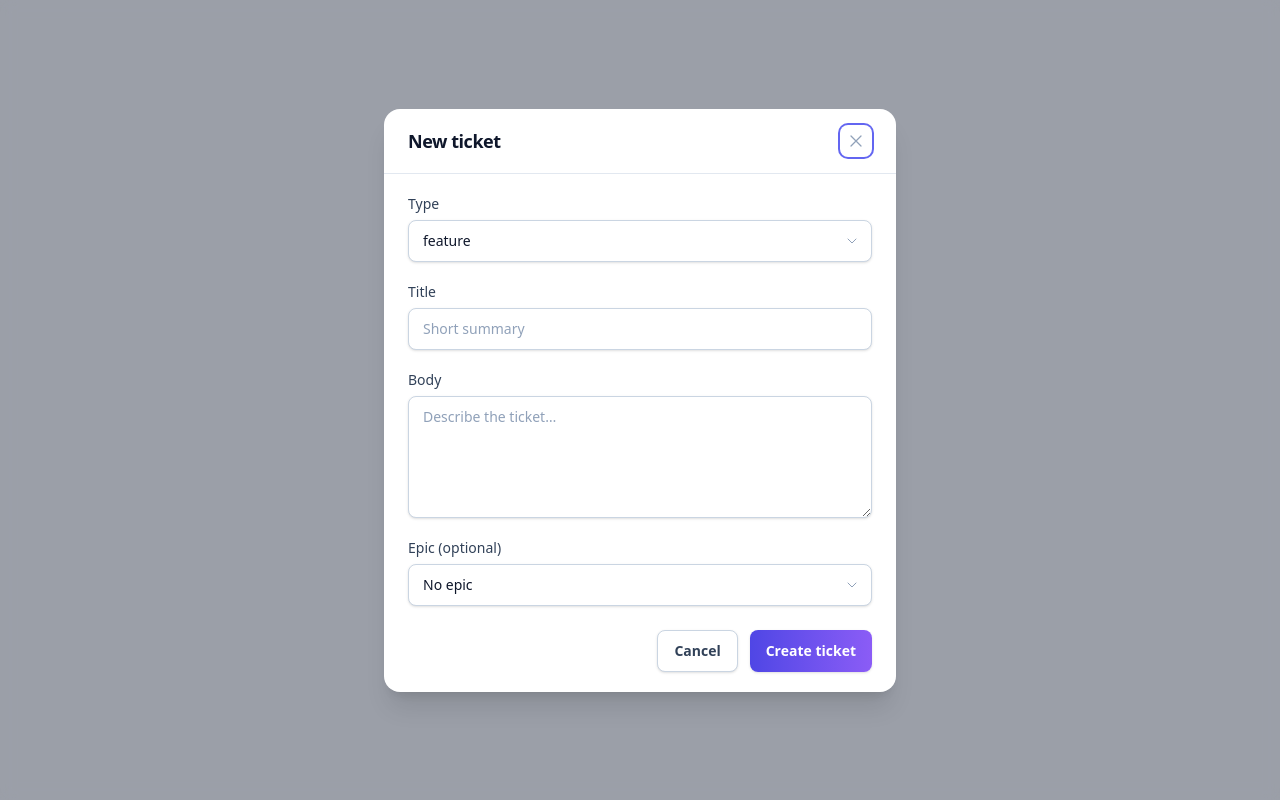
Test: server field errors are shown inline
Type "Dupe" into the field labelled "Title".
click(640, 328); type("Dupe")  # box [408,308,872,350]
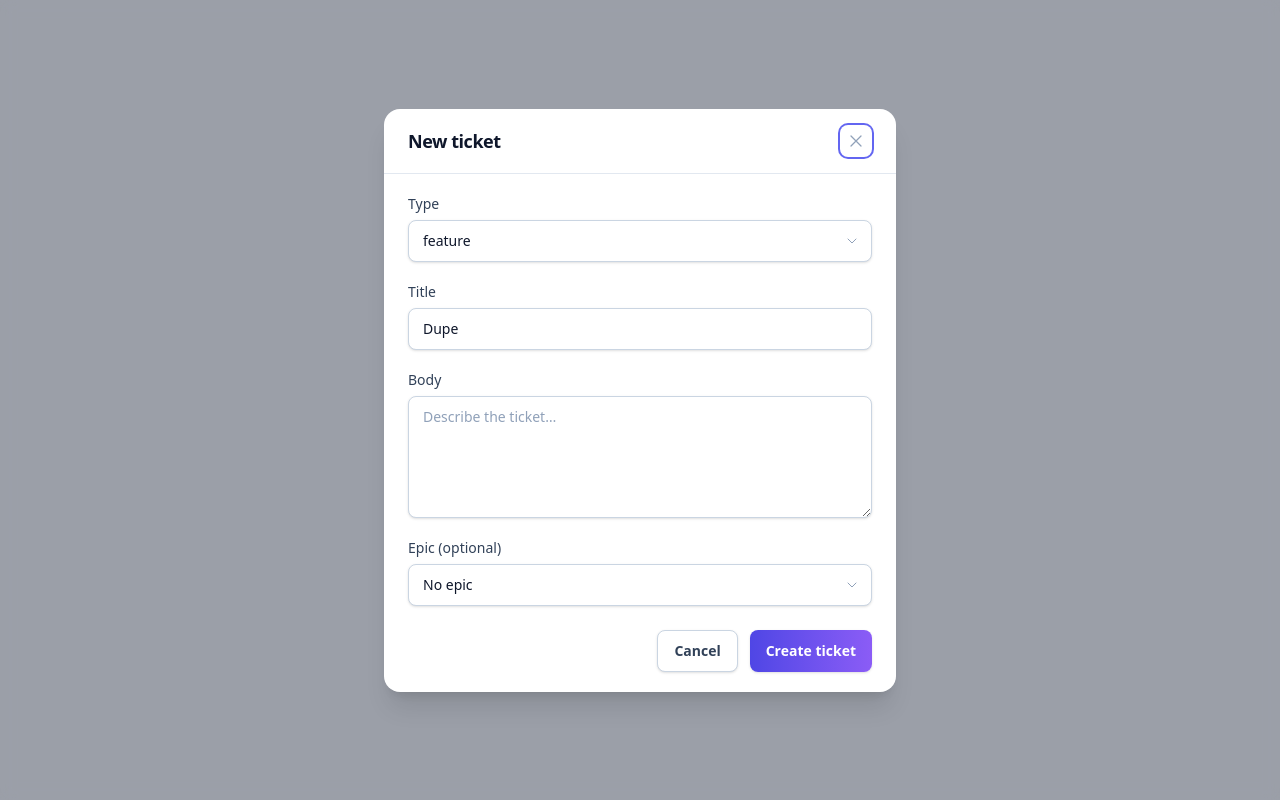
Type "Body" into the text box labelled "Body".
click(640, 456); type("Body")  # box [408,396,872,518]
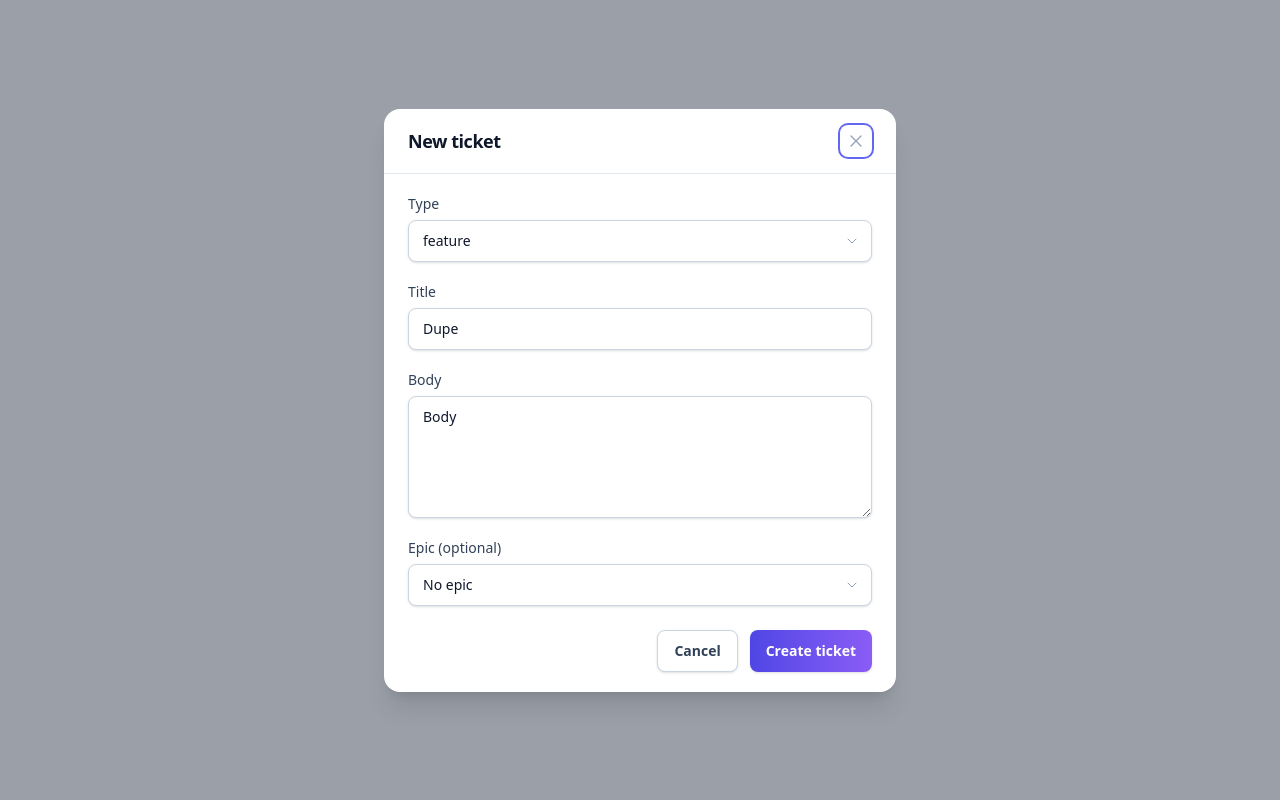
Click the button "Create ticket".
click(811, 650)  # box [750,630,872,672]
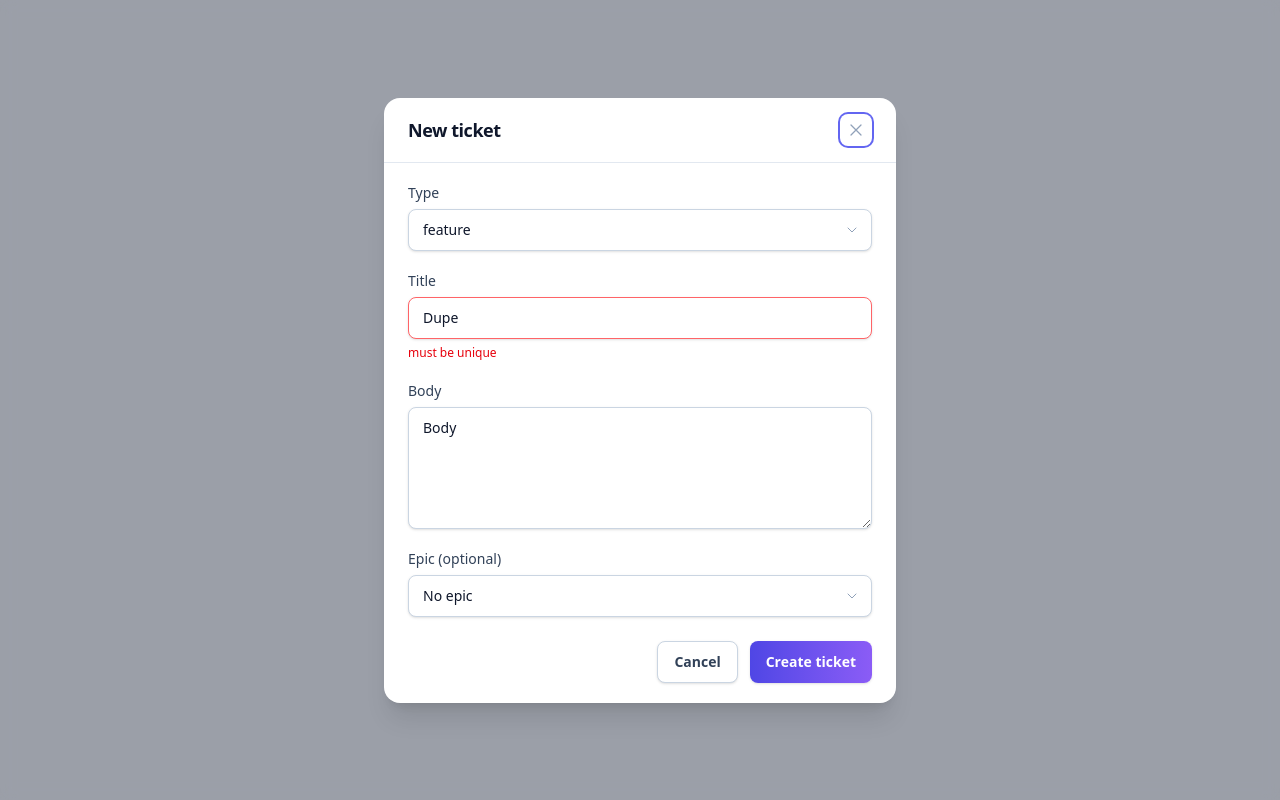
Result: the text "must be unique" is shown at [408,344,497,360]
